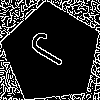J: (27, 28, 79, 73)
